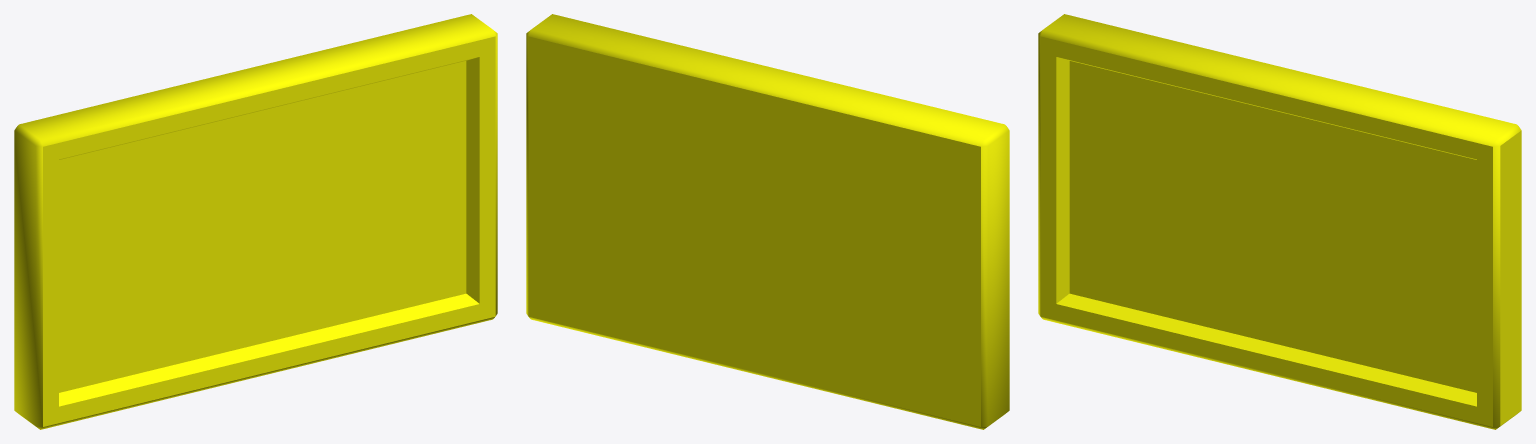
File: kaykit-pictureframe-large-b.glb
3 views of the same model, side by side, from view 1: azimuth 30°, elevation 25°; view 2: azimuth 150°, elevation 25°; view 3: azimuth 330°, elevation 25° (orthographic).
Visible parts, largest first — view 1: pictureframe_large_B; view 2: pictureframe_large_B; view 3: pictureframe_large_B.
Part boxes in pixels (x1,y1,x2,y2): pictureframe_large_B: [14, 14, 497, 429]; pictureframe_large_B: [526, 14, 1009, 429]; pictureframe_large_B: [1038, 14, 1521, 429].
Size of the model in its own units: 2 by 1.2 by 0.2.
